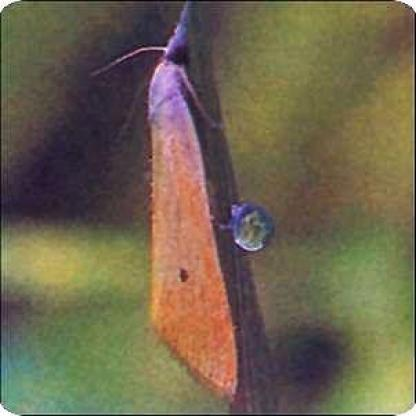stem-borer: (132, 0, 236, 397)
